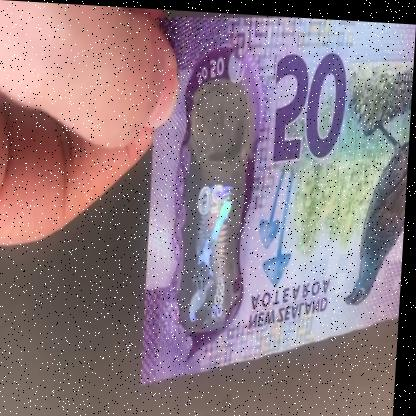50B: (189, 87, 246, 327)
